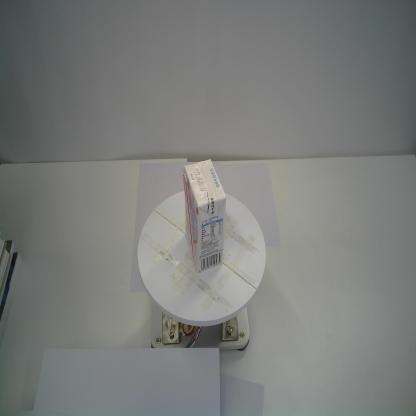Milk: (182, 158, 226, 273)
